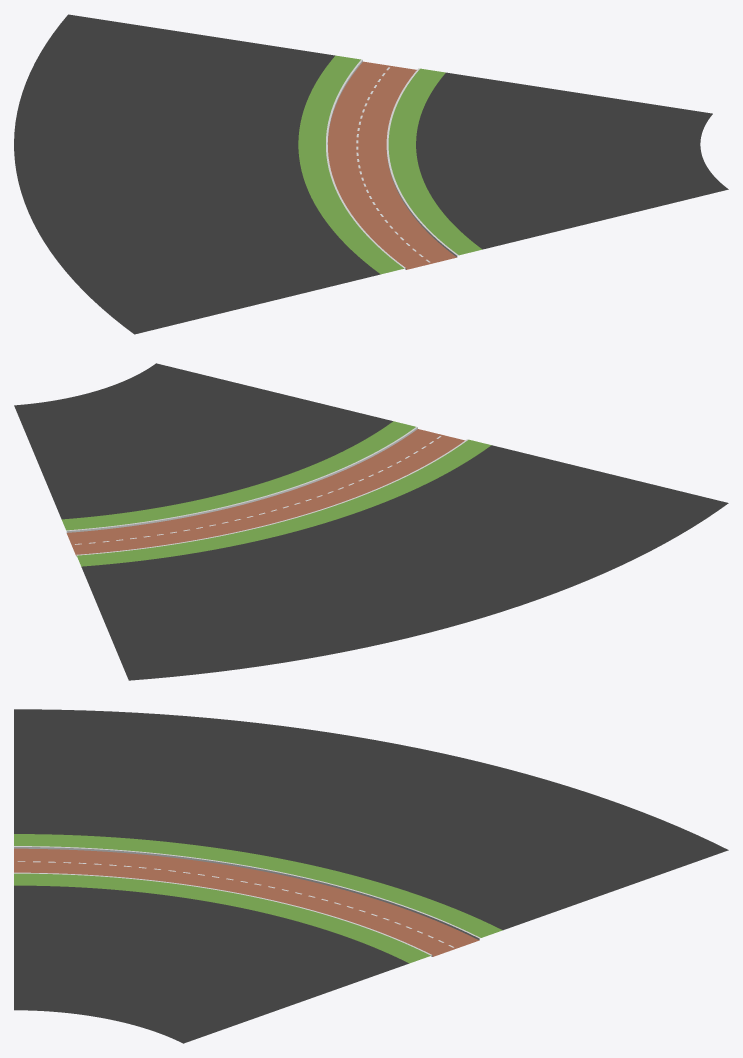
File: Suburb_Road_L_50_001.fbx
3 renders of one model, top to bottom at view 1: azimuth 30°, elevation 25°; view 2: azimuth 150°, elevation 25°; view 3: azimuth 270°, elevation 25°, orthographic. The views are drawn at different scales.
Visible parts, largest first — view 1: Suburb_Road_L_50_001; view 2: Suburb_Road_L_50_001; view 3: Suburb_Road_L_50_001.
Part boxes in pixels (left/top/right/bottom): Suburb_Road_L_50_001: left=14, top=14, right=728, bottom=334; Suburb_Road_L_50_001: left=14, top=363, right=728, bottom=680; Suburb_Road_L_50_001: left=14, top=709, right=728, bottom=1043.
Bounding box in the file's own units: 77.76 × 0.2 × 70.27.
